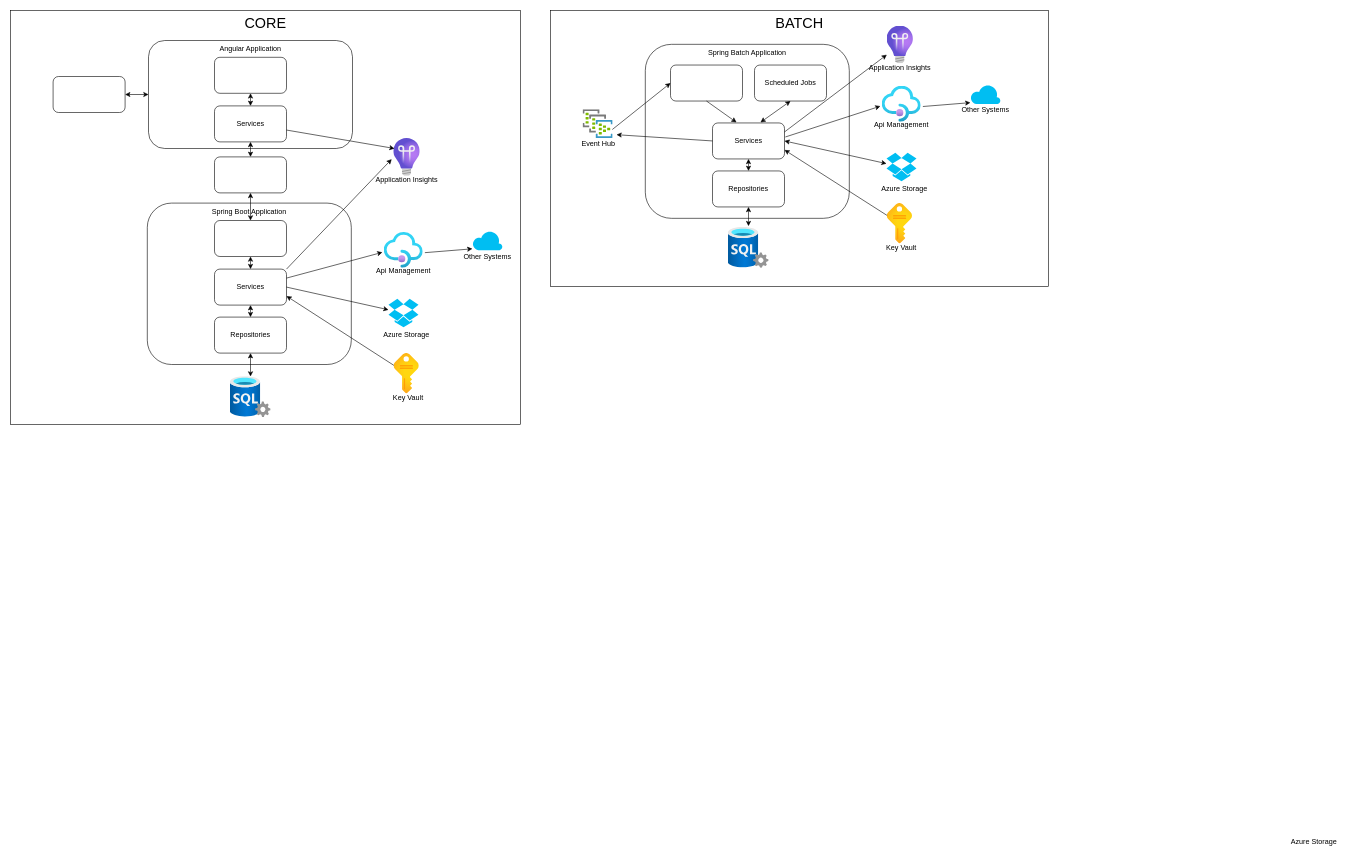
The diagram is 1350 pixels wide and 861 high, and some of its shapes have lost their labels. Each missing label, with the centre of its shape:
Browser: (x=88, y=94)
Components: (x=250, y=75)
Consumers: (x=706, y=82)
HTTP Client: (x=250, y=174)
RestController: (x=250, y=238)
